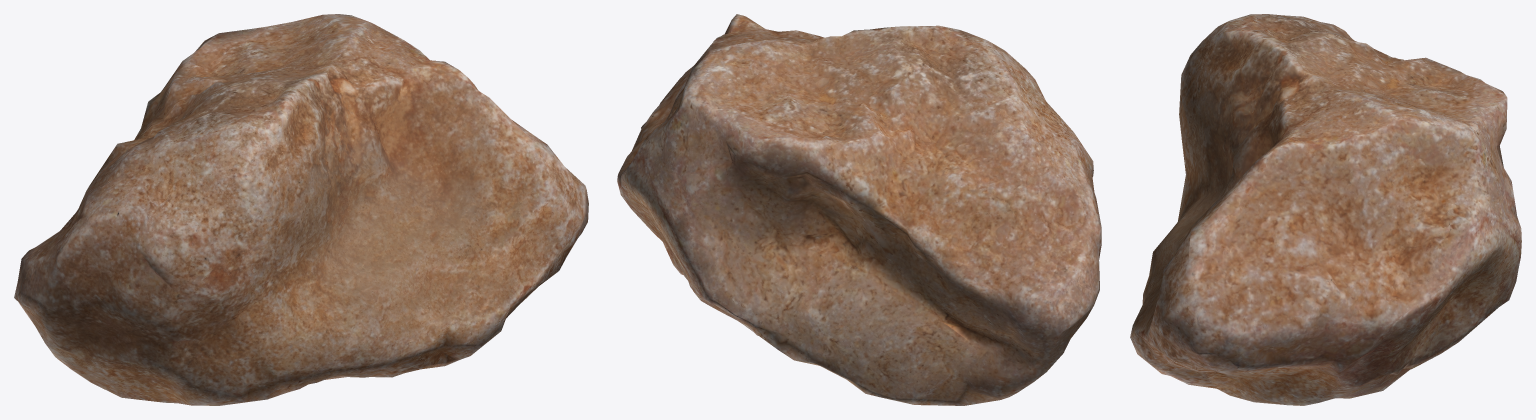
File: SM_xjueacmh_tier_2.gltf
The picture shows the model from 3 angles, left to right: view 1: azimuth 30°, elevation 25°; view 2: azimuth 150°, elevation 25°; view 3: azimuth 270°, elevation 25°; orthographic projection. The views are drawn at different scales.
Parts seen in each view (by area): view 1: xjueacmh_LOD2_TIER2_000; view 2: xjueacmh_LOD2_TIER2_000; view 3: xjueacmh_LOD2_TIER2_000.
Part boxes in pixels (<box>): xjueacmh_LOD2_TIER2_000: <box>14,14,588,405</box>; xjueacmh_LOD2_TIER2_000: <box>617,14,1101,405</box>; xjueacmh_LOD2_TIER2_000: <box>1130,14,1521,405</box>.
Size of the model in its own units: 0.0912 by 0.0548 by 0.0601.
1 material, 1 textured.
